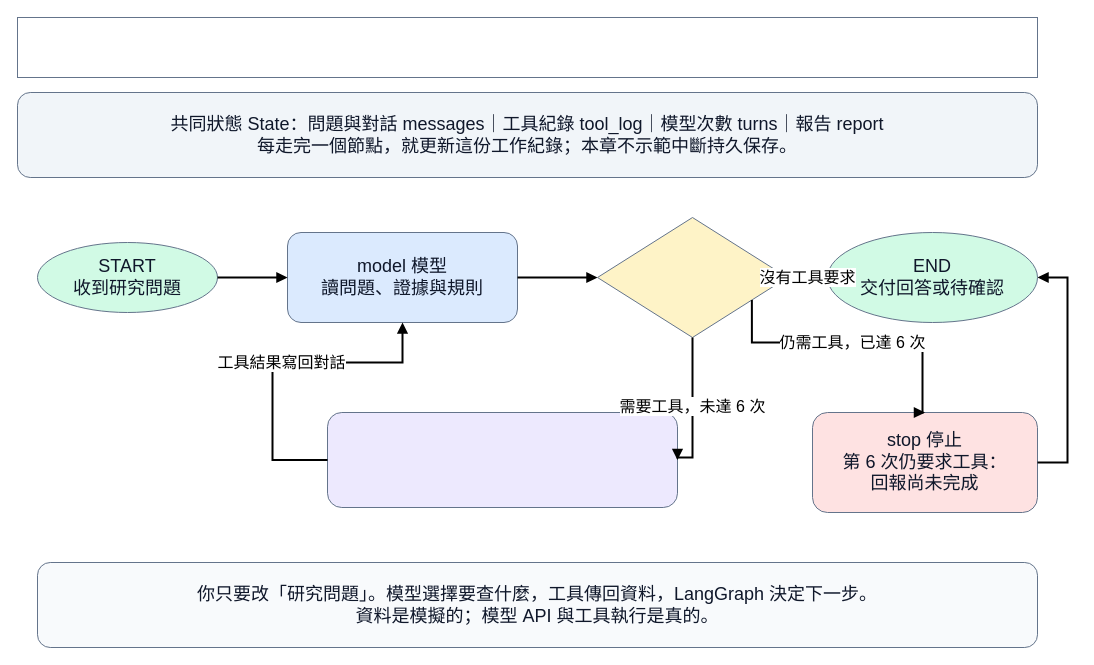
Image size: 1094x665. Some labels were removed from this diagram. Here are the shapes that lost their labels. From the top down, the centre of each, then its label:
At (527,47): "第一份研究：LangGraph 如何安排模型與工具".
At (692,277): "接著做什麼？".
At (502,460): "tools 工具 查詢教材 JSON，傳回產品資料".
